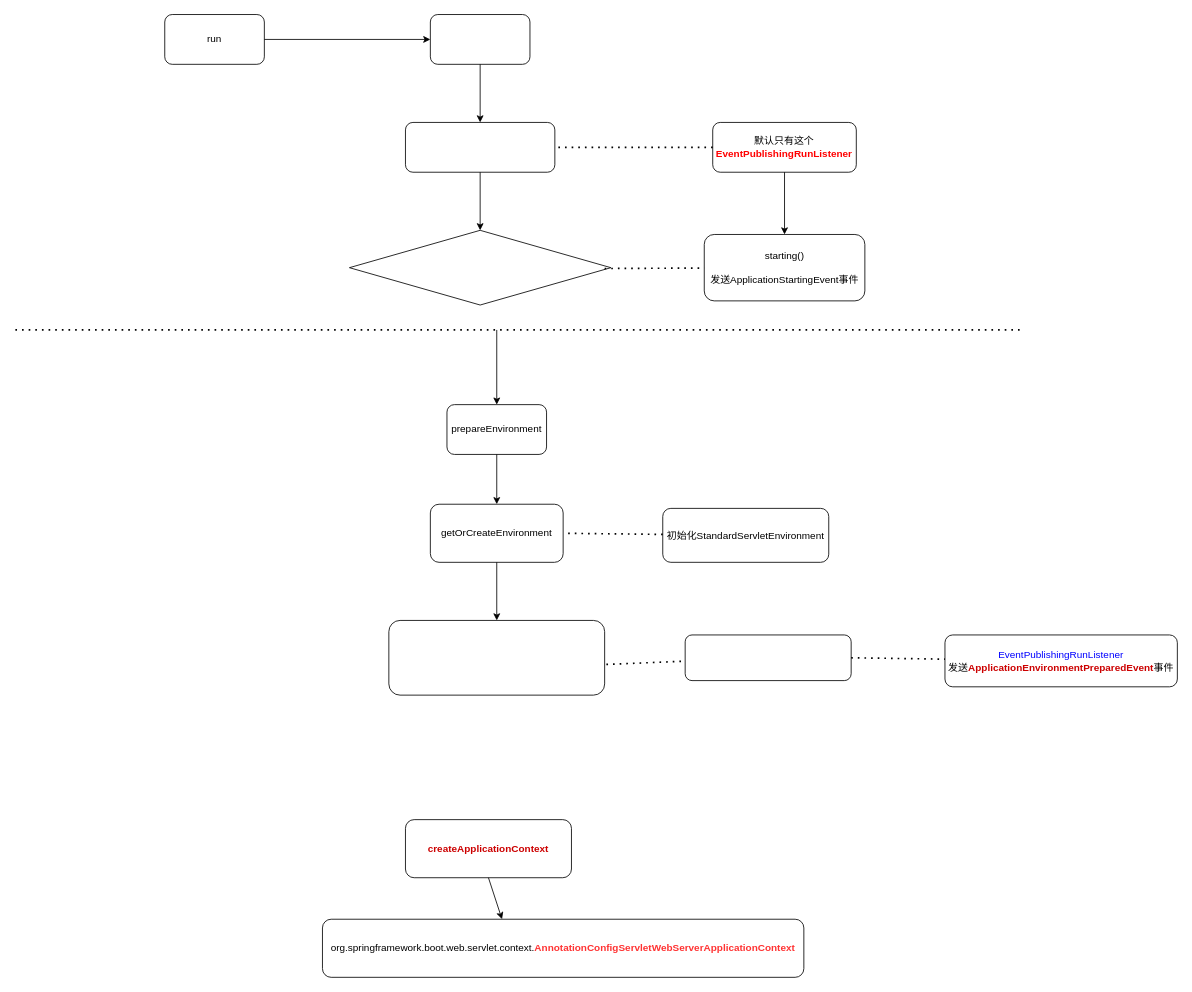
The diagram is 1192 pixels wide and 992 high, and some of its shapes have lost their labels. Each missing label, with the centre of its shape:
getRunListeners: (x=480, y=39)
listeners. environmentPrepared (environment): (x=496, y=657)
循环调用 SpringApplicationRunListener . starting (): (x=480, y=267)
循环调用environmentPrepared: (x=767, y=657)
获得所有的SpringApplicationRunListener: (x=480, y=147)
